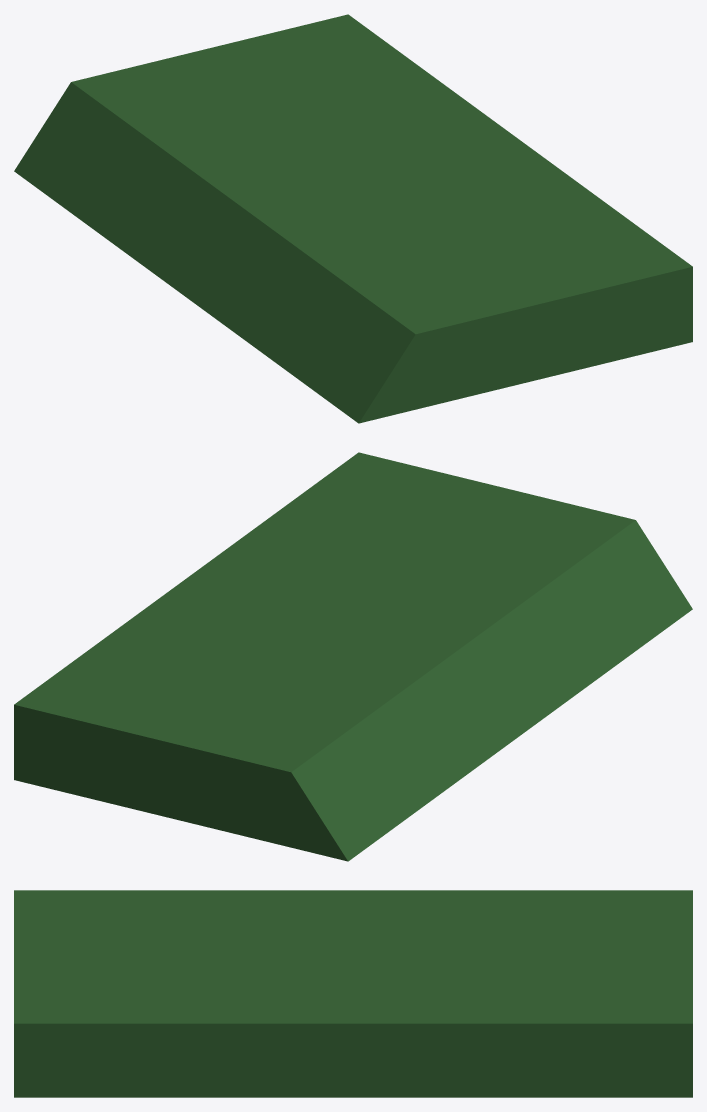
3 renders of one model, top to bottom at view 1: azimuth 30°, elevation 25°; view 2: azimuth 150°, elevation 25°; view 3: azimuth 270°, elevation 25°, orthographic.
Parts seen in each view (by area): view 1: geometry_19; view 2: geometry_19; view 3: geometry_19.
Boxes of the visible parts, <box> form: geometry_19: <box>14,14,692,423</box>; geometry_19: <box>14,452,692,861</box>; geometry_19: <box>14,890,692,1097</box>.
Bounding box in the file's own units: 0.0224 × 0.00482 × 0.04.
